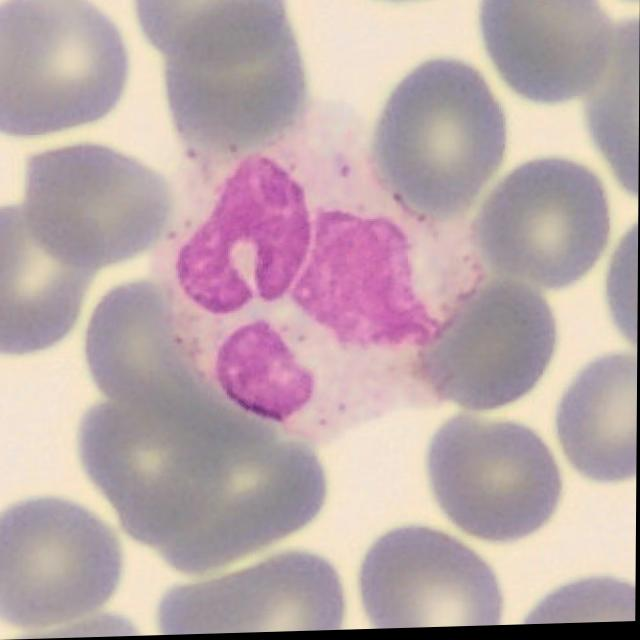Neutrofilo segmentado: (150, 99, 483, 451)
